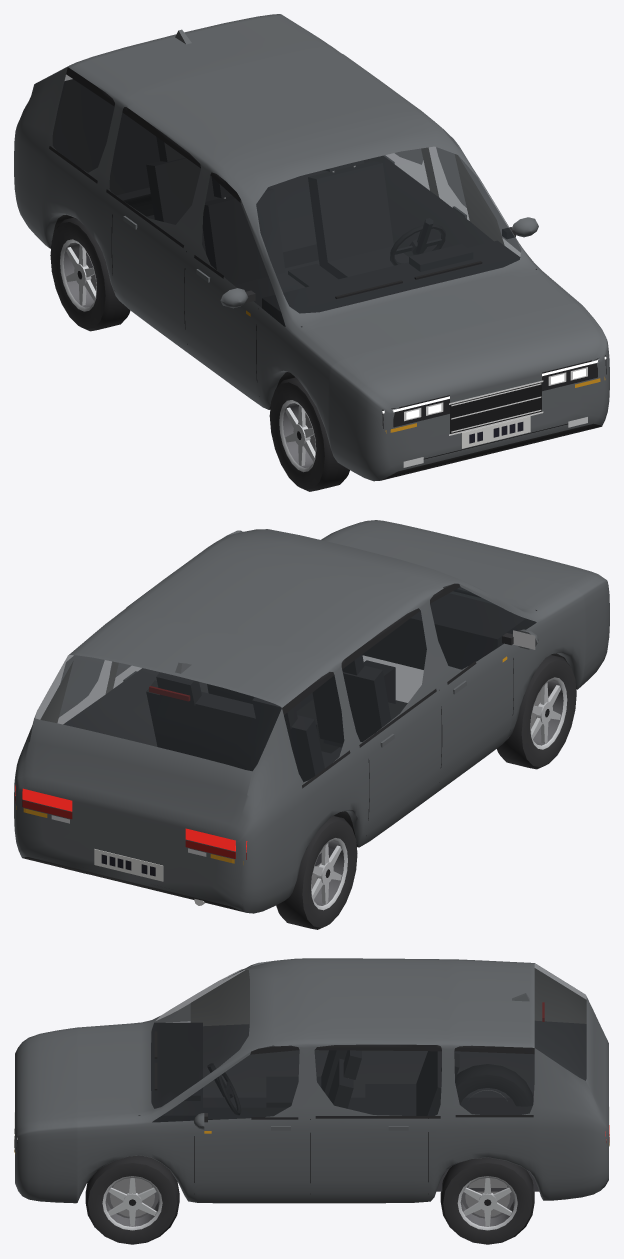
The model's file is suv_grey.glb.
3 renders of one model, top to bottom at view 1: azimuth 30°, elevation 25°; view 2: azimuth 150°, elevation 25°; view 3: azimuth 270°, elevation 25°, orthographic. The views are drawn at different scales.
Parts seen in each view (by area): view 1: suv_grey_body, Wheel_RR, Wheel_FR; view 2: suv_grey_body, Wheel_FR, Wheel_RR; view 3: suv_grey_body, Wheel_FL, Wheel_RL, Wheel_RR.
Part boxes in pixels (left/top/right/bottom): suv_grey_body: left=14, top=14, right=609, bottom=481; Wheel_RR: left=50, top=217, right=130, bottom=331; Wheel_FR: left=269, top=377, right=349, bottom=491; suv_grey_body: left=14, top=520, right=609, bottom=913; Wheel_FR: left=497, top=655, right=576, bottom=769; Wheel_RR: left=276, top=816, right=357, bottom=929; suv_grey_body: left=14, top=958, right=609, bottom=1203; Wheel_FL: left=85, top=1155, right=179, bottom=1244; Wheel_RL: left=440, top=1157, right=534, bottom=1244; Wheel_RR: left=455, top=1064, right=533, bottom=1106.
Size of the model in its own units: 0.1198 by 0.0903 by 0.2408.
Materials: 8 (1 with a texture image).
